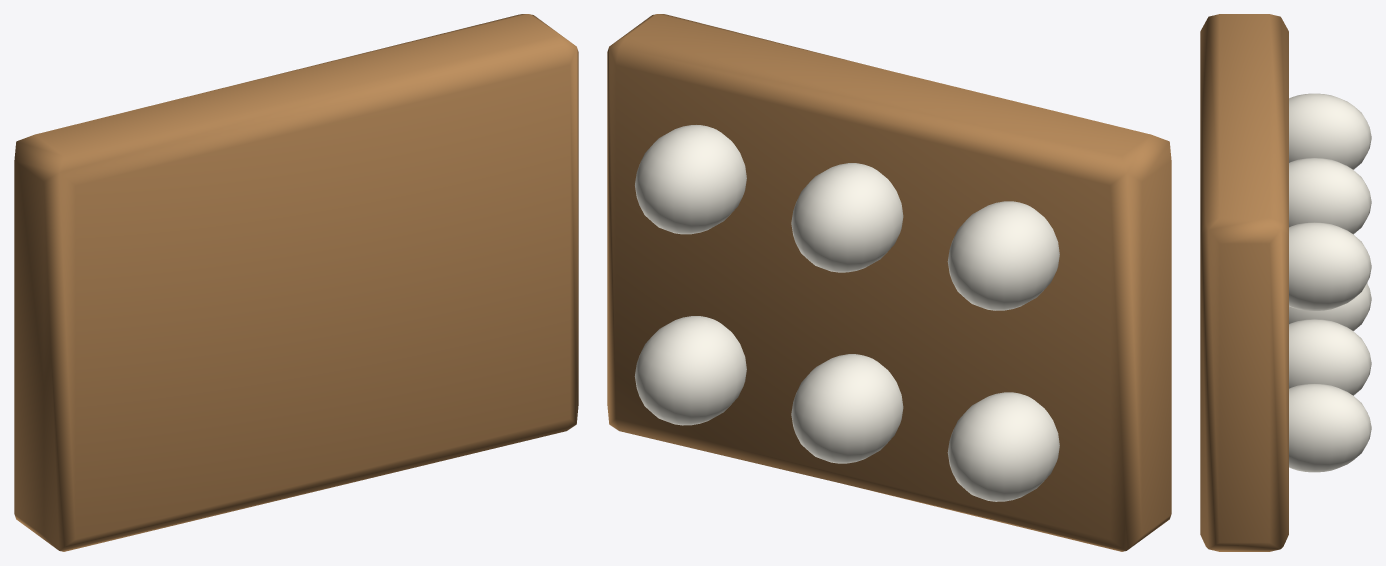
The model's file is egg_output_tray.glb.
The picture shows the model from 3 angles, left to right: view 1: azimuth 30°, elevation 25°; view 2: azimuth 150°, elevation 25°; view 3: azimuth 270°, elevation 25°; orthographic projection. The views are drawn at different scales.
Parts seen in each view (by area): view 1: Tray; view 2: Tray, Egg.002, Egg.005, Egg.003, Egg, Egg.001, Egg.004; view 3: Tray, Egg.005, Egg.004, Egg.001, Egg.002, Egg.003, Egg.
Boxes of the visible parts, x1=… form: Tray: x1=14, y1=14, x2=578, y2=551; Tray: x1=607, y1=14, x2=1171, y2=551; Egg.002: x1=791, y1=354, x2=903, y2=463; Egg.005: x1=635, y1=125, x2=746, y2=234; Egg.003: x1=791, y1=163, x2=903, y2=272; Egg: x1=947, y1=392, x2=1059, y2=501; Egg.001: x1=947, y1=201, x2=1059, y2=310; Egg.004: x1=634, y1=316, x2=746, y2=425; Tray: x1=1200, y1=14, x2=1288, y2=551; Egg.005: x1=1289, y1=222, x2=1371, y2=310; Egg.004: x1=1289, y1=384, x2=1371, y2=472; Egg.001: x1=1289, y1=93, x2=1371, y2=169; Egg.002: x1=1289, y1=319, x2=1371, y2=395; Egg.003: x1=1289, y1=158, x2=1371, y2=234; Egg: x1=1289, y1=283, x2=1371, y2=330.
Bounding box in the file's own units: 0.82 × 0.58 × 0.27.
